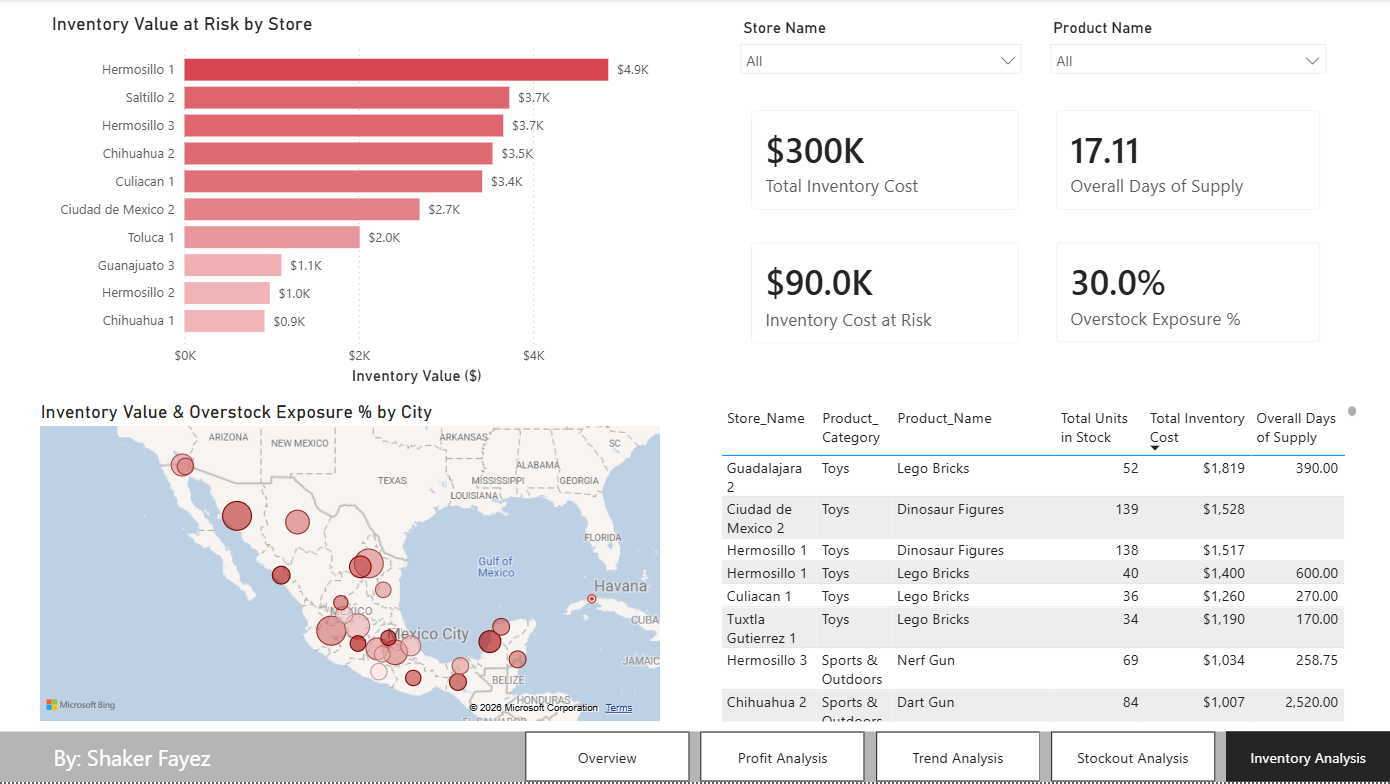

What the dashboard file says about the page in this screenshot:
{"tool":"powerbi","page":{"name":"Inventory Analysis","canvas":[1280,720],"ordinal":4},"visuals":[{"type":"shape","box":[0,673.3,1280.2,46.5],"z":0},{"type":"pageNavigator","box":[483.5,673.3,796.5,46.5],"z":1000},{"type":"clusteredBarChart","title":"Inventory Value at Risk by Store","fields":{"Category":["stores.Store_Name"],"Y":["_Measures.Inventory Cost at Risk"]},"box":[43.5,12.8,568.4,347],"z":2000},{"type":"map","title":"Inventory Value & Overstock Exposure % by City","fields":{"Size":["_Measures.Total Inventory Cost"],"Category":["stores.Store_City"]},"box":[33.3,368.7,578.7,299.6],"z":3000},{"type":"cardVisual","title":"Total Profit","fields":{"Data":["_Measures.Overstock Exposure %"]},"box":[954.2,206.5,277.7,126.1],"z":4000},{"type":"cardVisual","title":"Total Profit","fields":{"Data":["_Measures.Total Inventory Cost"]},"box":[673.9,85.5,280.3,126.1],"z":5000},{"type":"cardVisual","title":"Total Profit","fields":{"Data":["_Measures.Inventory Cost at Overstock Risk"]},"box":[673.9,206.5,280.3,127.4],"z":6000},{"type":"cardVisual","title":"Total Profit","fields":{"Data":["_Measures.Overall Days of Supply"]},"box":[954.2,85.5,277.7,126.1],"z":7000},{"type":"tableEx","fields":{"Values":["stores.Store_Name","products.Product_Category","products.Product_Name","_Measures.Total Units in Stock","_Measures.Total Inventory Cost","_Measures.Overall Days of Supply"]},"box":[658.3,368.4,594.9,300.4],"z":8000},{"type":"slicer","fields":{"Values":["stores.Store_Name"]},"box":[671.2,12.7,279.1,62.2],"z":8001},{"type":"slicer","fields":{"Values":["products.Product_Category"]},"box":[955.4,12.7,274.1,62.2],"z":8002}]}

Visuals, with their boxes on the page's 1280x720 design canvas (x1, y1, x2, y2). These are canvas units, not pixel positions in the 1390x784 screenshot, which may show the page scaled, cropped or inside an application window:
shape: crop(0, 673, 1280, 720)
pageNavigator: crop(484, 673, 1280, 720)
"Inventory Value at Risk by Store" clusteredBarChart: crop(44, 13, 612, 360)
"Inventory Value & Overstock Exposure % by City" map: crop(33, 369, 612, 668)
"Total Profit" cardVisual: crop(954, 206, 1232, 333)
"Total Profit" cardVisual: crop(674, 86, 954, 212)
"Total Profit" cardVisual: crop(674, 206, 954, 334)
"Total Profit" cardVisual: crop(954, 86, 1232, 212)
tableEx - stores.Store_Name x products.Product_Category: crop(658, 368, 1253, 669)
slicer - stores.Store_Name: crop(671, 13, 950, 75)
slicer - products.Product_Category: crop(955, 13, 1230, 75)
